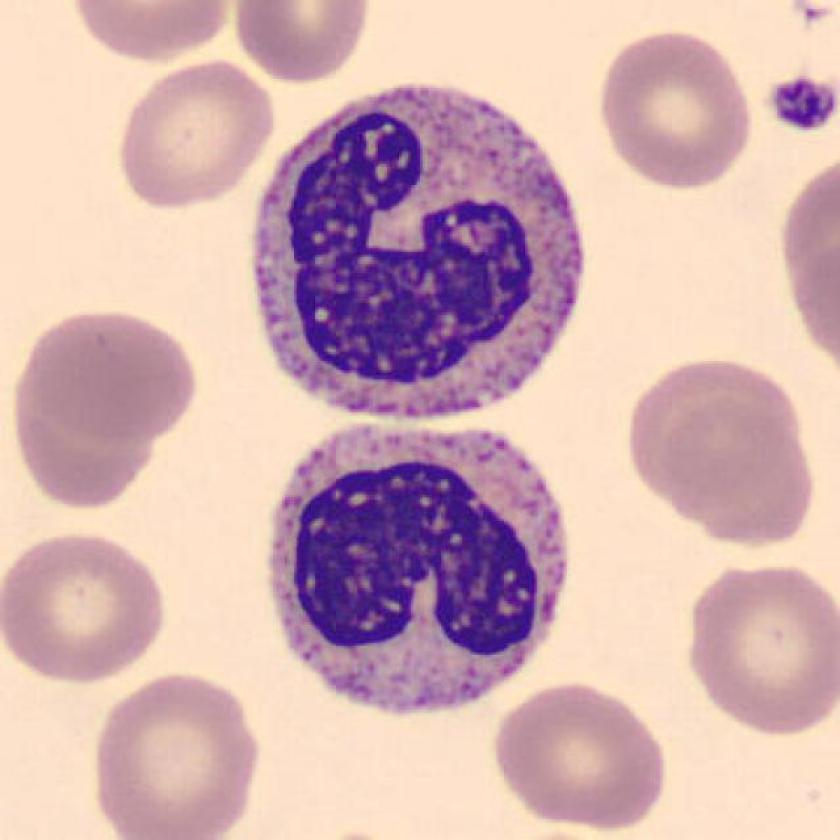neutrophil: (253, 84, 588, 421), (262, 422, 571, 719)
